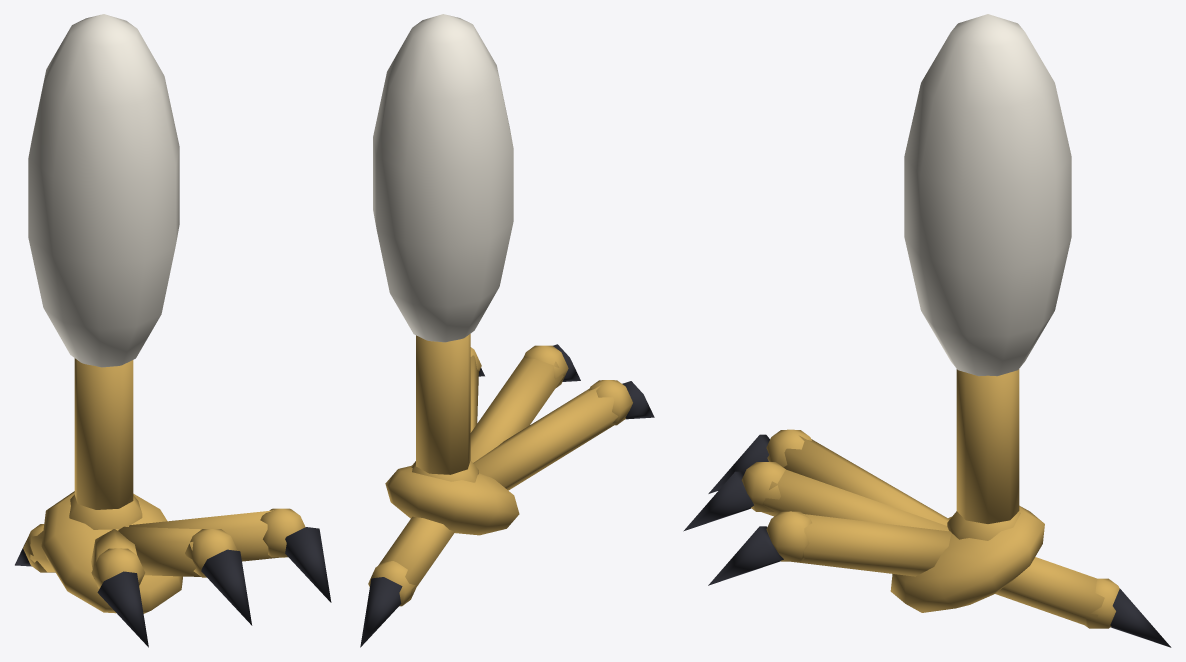
Rendered from knowitowl_shin.glb.
The picture shows the model from 3 angles, left to right: view 1: azimuth 30°, elevation 25°; view 2: azimuth 150°, elevation 25°; view 3: azimuth 270°, elevation 25°; orthographic projection. The views are drawn at different scales.
Visible parts, largest first — view 1: KnowItOwlShin; view 2: KnowItOwlShin; view 3: KnowItOwlShin.
Part boxes in pixels (x1,y1,x2,y2): KnowItOwlShin: (15, 14, 331, 647); KnowItOwlShin: (360, 14, 654, 647); KnowItOwlShin: (683, 14, 1171, 647).
Bounding box in the file's own units: 0.5075 × 1.39 × 0.9694.
